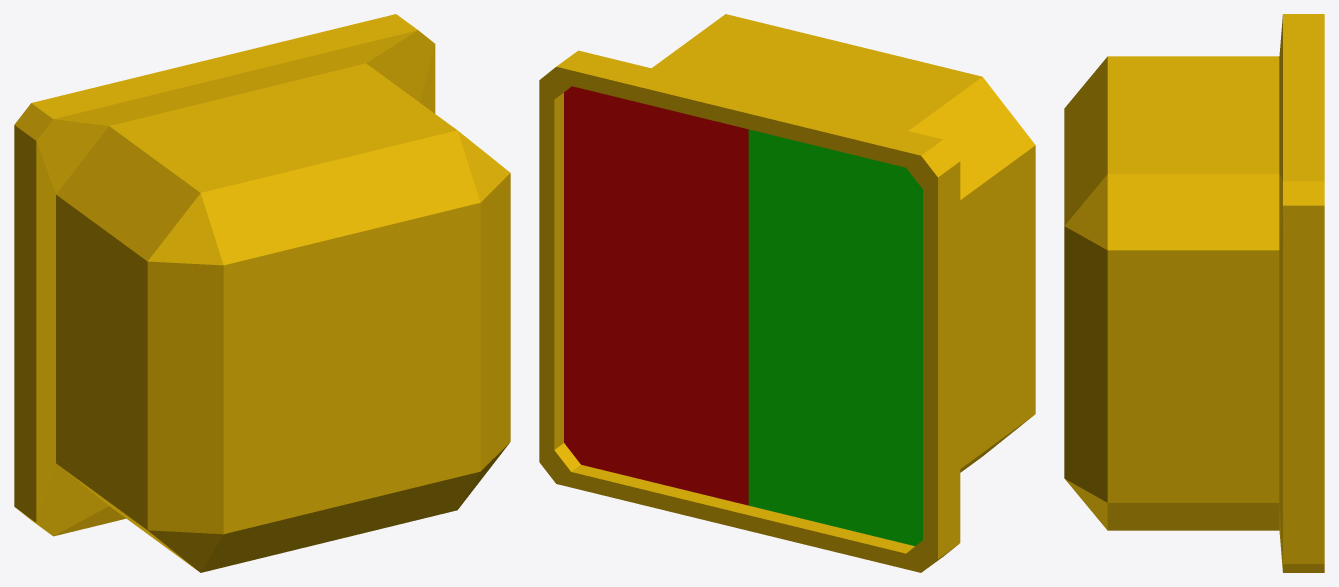
The model's file is PedestrianTrafficLight.fbx.
3 views of the same model, side by side, from view 1: azimuth 30°, elevation 25°; view 2: azimuth 150°, elevation 25°; view 3: azimuth 270°, elevation 25° (orthographic). The views are drawn at different scales.
Parts seen in each view (by area): view 1: Cube; view 2: Cube; view 3: Cube.
Part boxes in pixels (<box>): Cube: <box>14,14,510,572</box>; Cube: <box>539,14,1035,572</box>; Cube: <box>1064,14,1324,572</box>.
Bounding box in the file's own units: 220 × 220 × 132.
